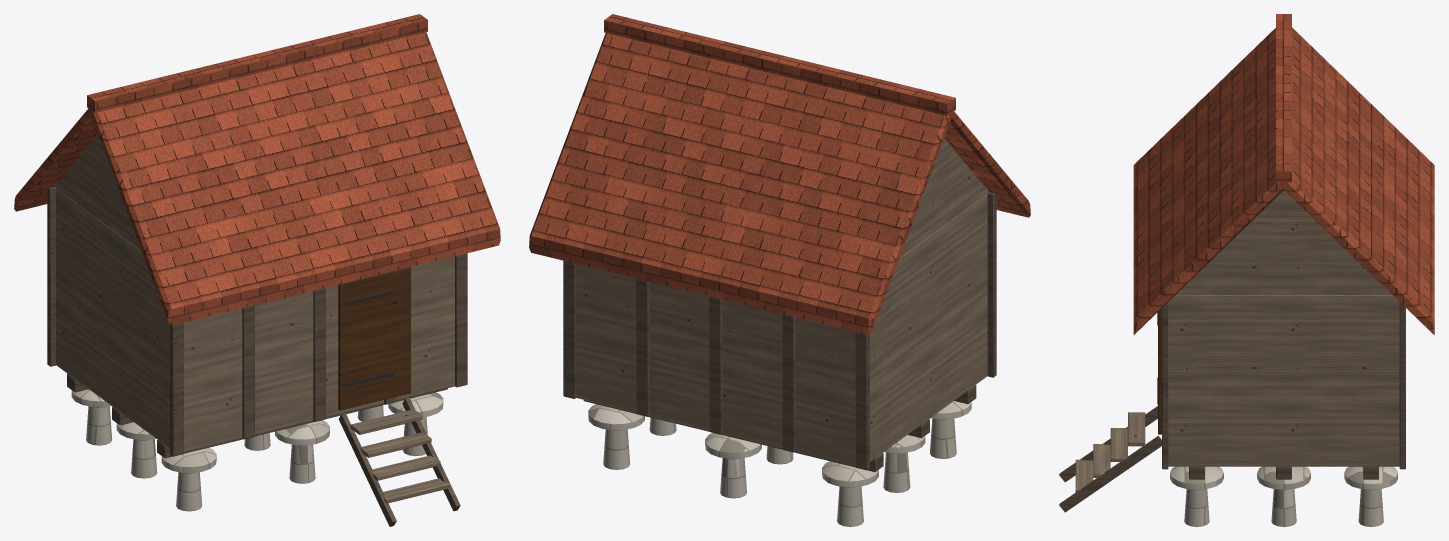
File: granary.glb
3 views of the same model, side by side, from view 1: azimuth 30°, elevation 25°; view 2: azimuth 150°, elevation 25°; view 3: azimuth 270°, elevation 25° (orthographic). The views are drawn at different scales.
Parts seen in each view (by area): view 1: Granary; view 2: Granary; view 3: Granary.
Part boxes in pixels (bbox=[...]): Granary: bbox=[14, 14, 500, 526]; Granary: bbox=[529, 14, 1030, 526]; Granary: bbox=[1059, 14, 1434, 526].
Size of the model in its own units: 4.7 by 5.28 by 4.74.
Materials: 6 (5 with a texture image).
